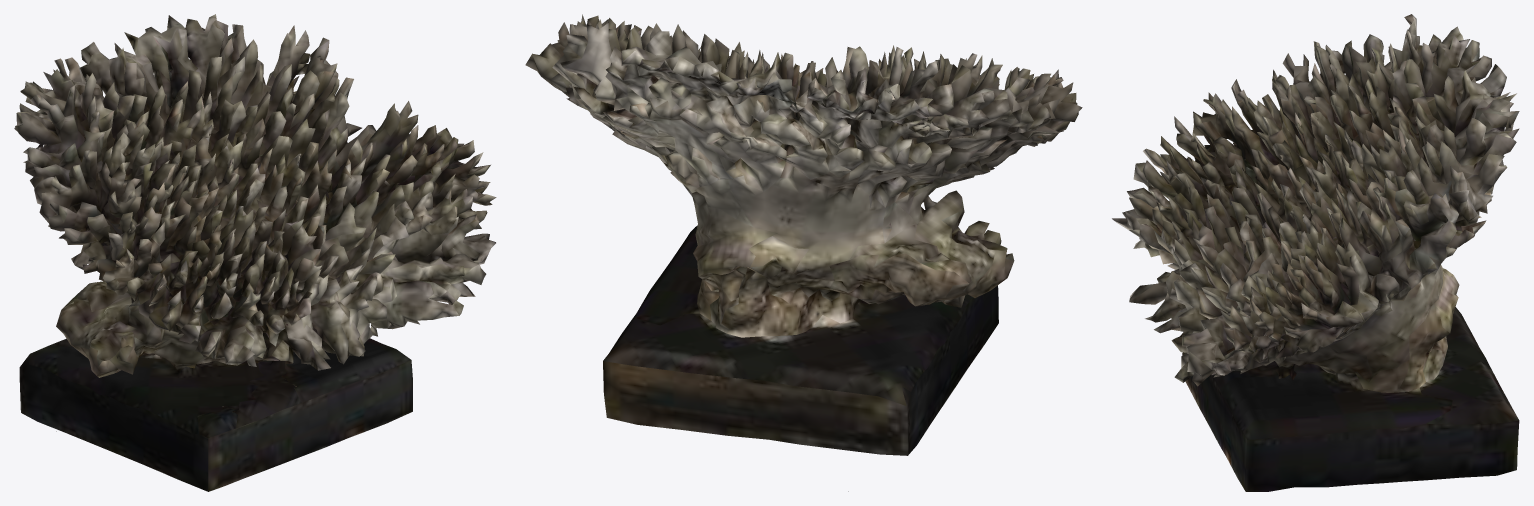
File: acropora-hyacinthus-mobile.glb
3 renders of one model, left to right at view 1: azimuth 30°, elevation 25°; view 2: azimuth 150°, elevation 25°; view 3: azimuth 270°, elevation 25°, orthographic. The views are drawn at different scales.
Bounding box in the file's own units: 286 × 232 × 228.
Materials: 1 (1 with a texture image).
